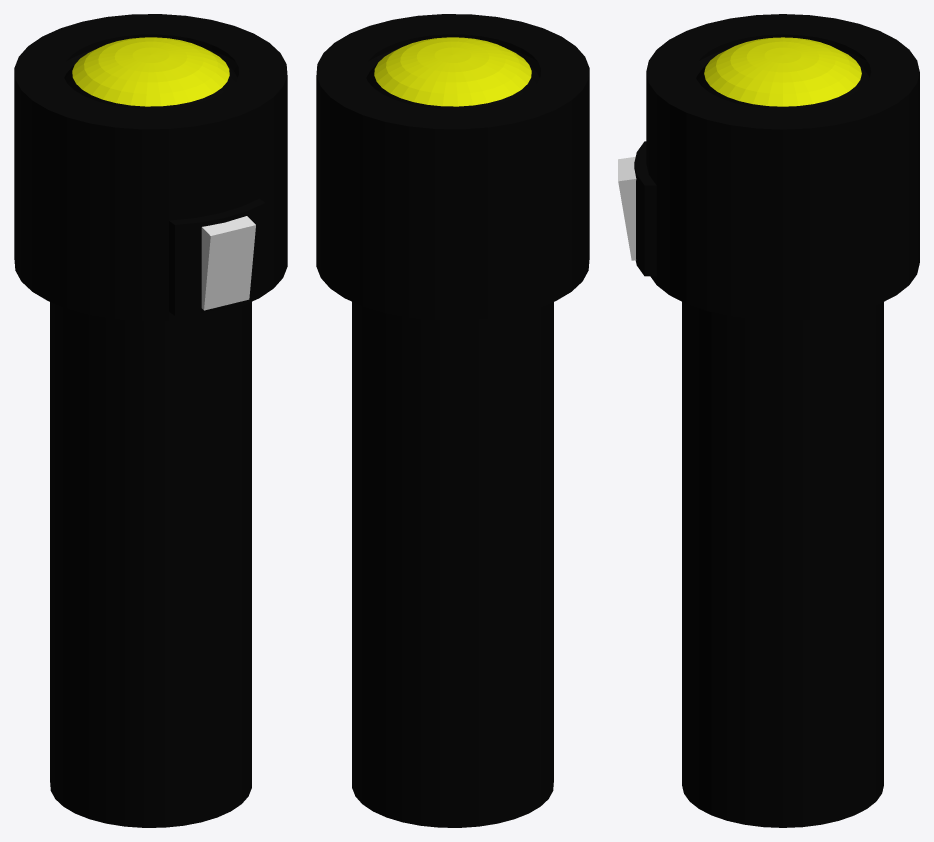
File: flash_ani.fbx
3 renders of one model, left to right at view 1: azimuth 30°, elevation 25°; view 2: azimuth 150°, elevation 25°; view 3: azimuth 270°, elevation 25°, orthographic.
Visible parts, largest first — view 1: 실린더, 큐브; view 2: 실린더; view 3: 실린더, 큐브.
Boxes of the visible parts, left/top/right/bottom form: 실린더: left=14, top=14, right=287, bottom=827; 큐브: left=201, top=216, right=255, bottom=310; 실린더: left=316, top=14, right=589, bottom=827; 실린더: left=634, top=14, right=919, bottom=827; 큐브: left=618, top=157, right=636, bottom=260.
Size of the model in its own units: 271 by 798 by 299.
